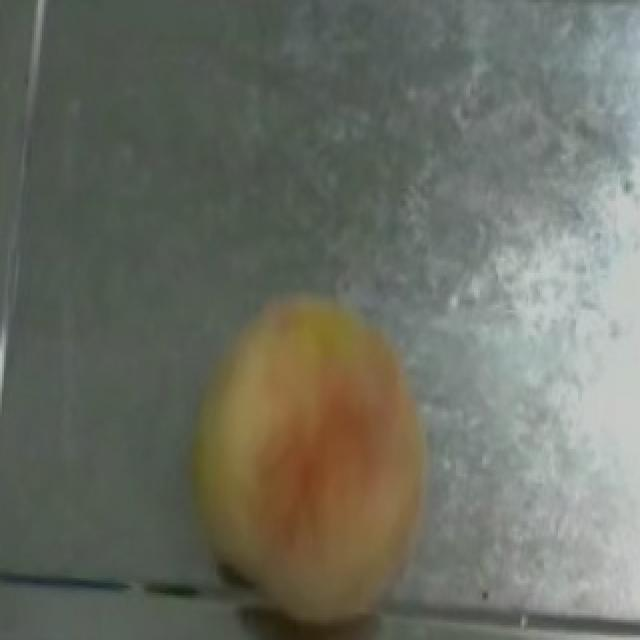Fruit: (160, 273, 448, 640)
